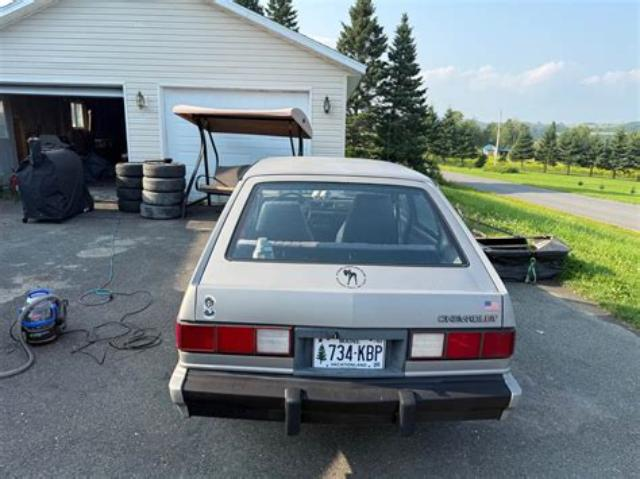chevette-1983: (169, 157, 521, 435)
